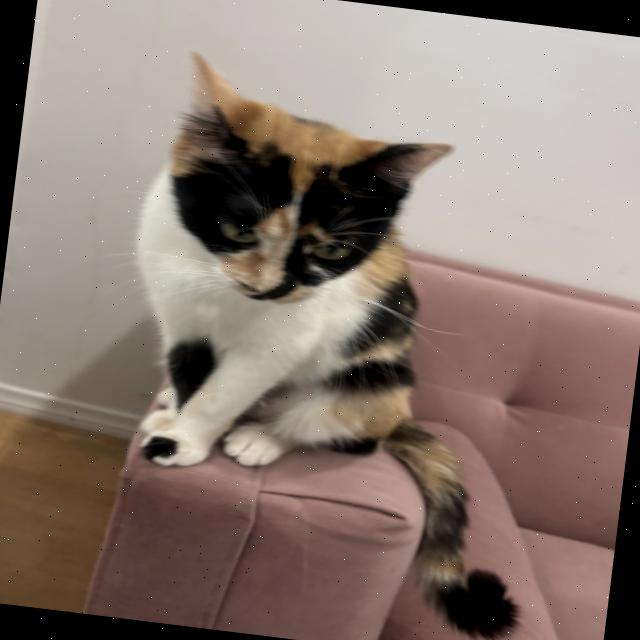calico_cat: (126, 35, 467, 337)
